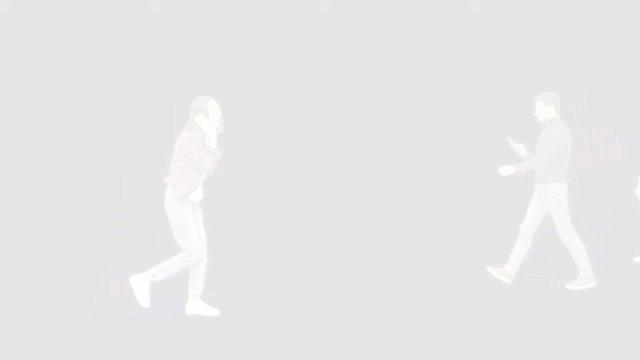berjalan: (480, 87, 602, 301), (120, 95, 226, 323)
